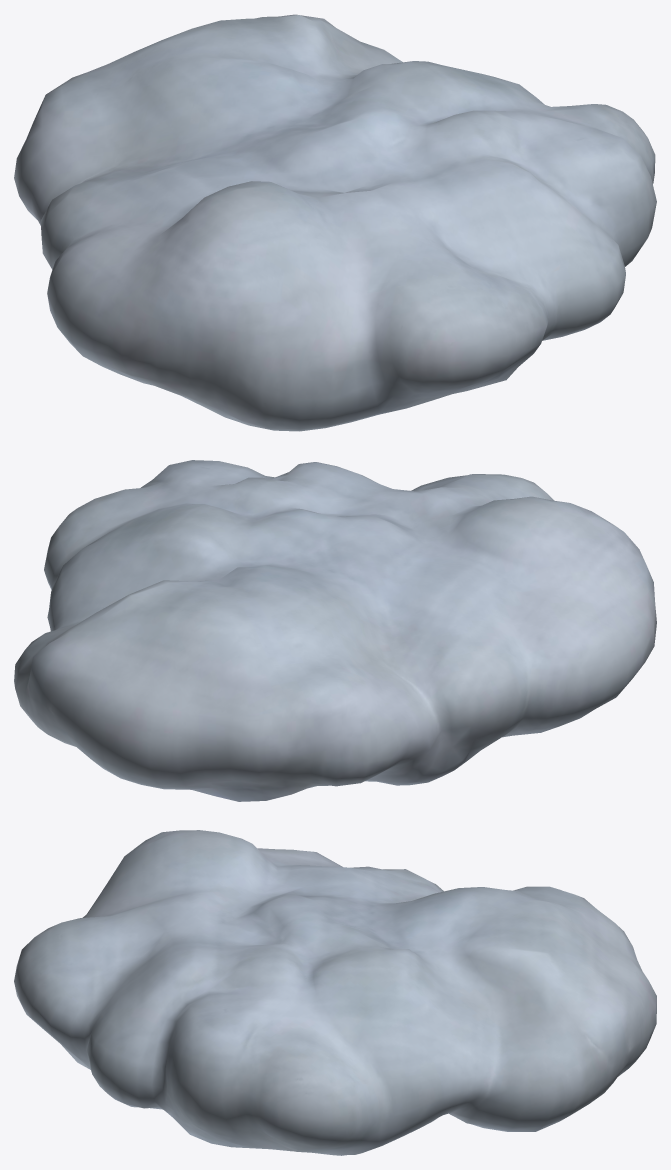
The picture shows the model from 3 angles, top to bottom: view 1: azimuth 30°, elevation 25°; view 2: azimuth 150°, elevation 25°; view 3: azimuth 270°, elevation 25°; orthographic projection. The views are drawn at different scales.
Visible parts, largest first — view 1: mesh; view 2: mesh; view 3: mesh.
Boxes of the visible parts, bbox=[...] form: mesh: bbox=[14, 14, 656, 431]; mesh: bbox=[14, 460, 656, 801]; mesh: bbox=[14, 830, 656, 1155].
Size of the model in its own units: 0.9261 by 0.3207 by 0.9971.
Materials: 1 (1 with a texture image).
